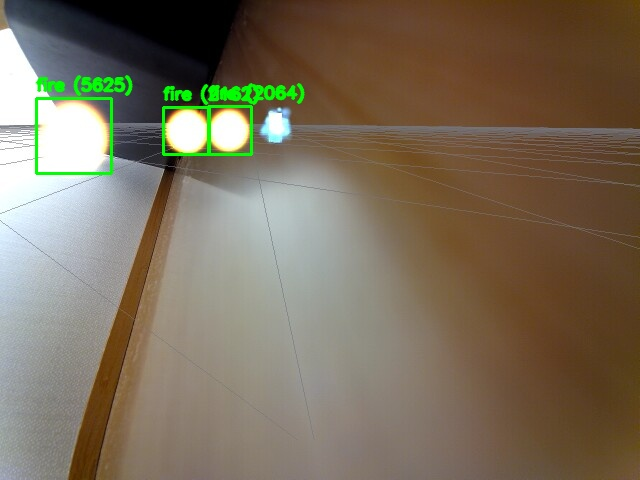fire: (36, 98, 111, 173), (163, 107, 209, 154), (208, 106, 251, 154)
